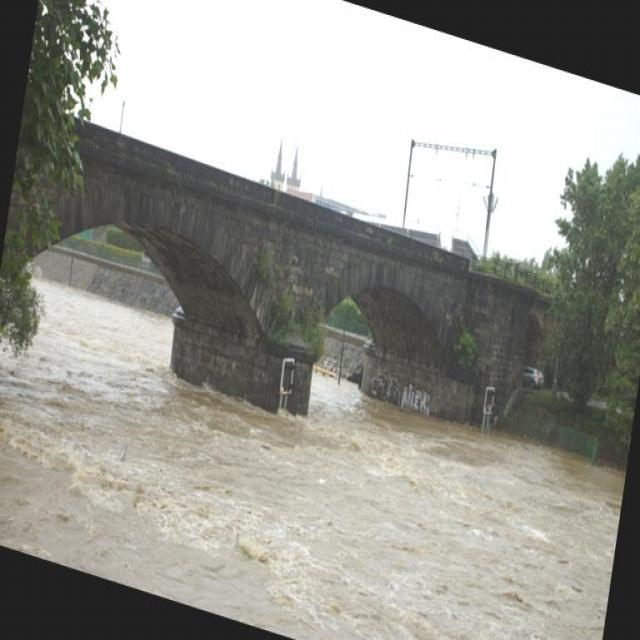flood: (0, 252, 629, 639)
